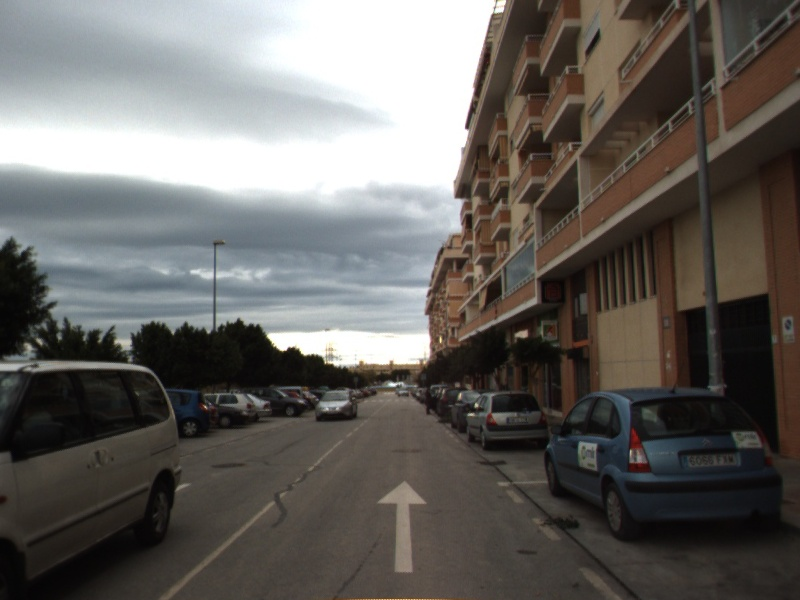STRAIGHT: (375, 478, 429, 575)
